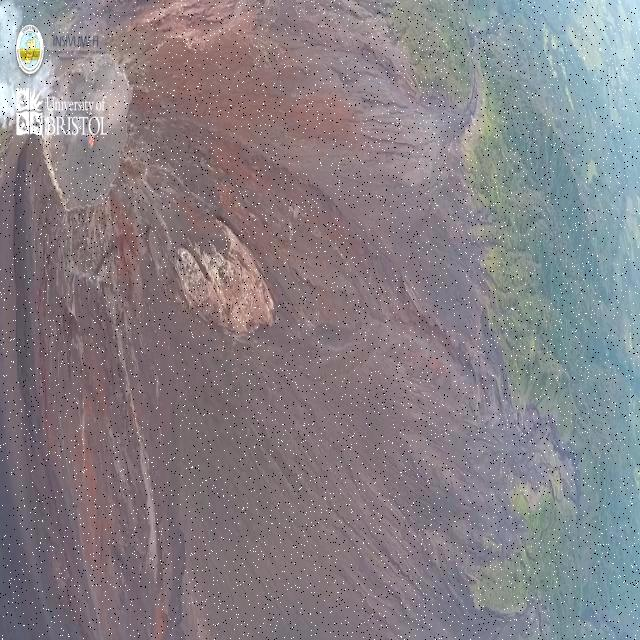Summit: (32, 42, 148, 236)
